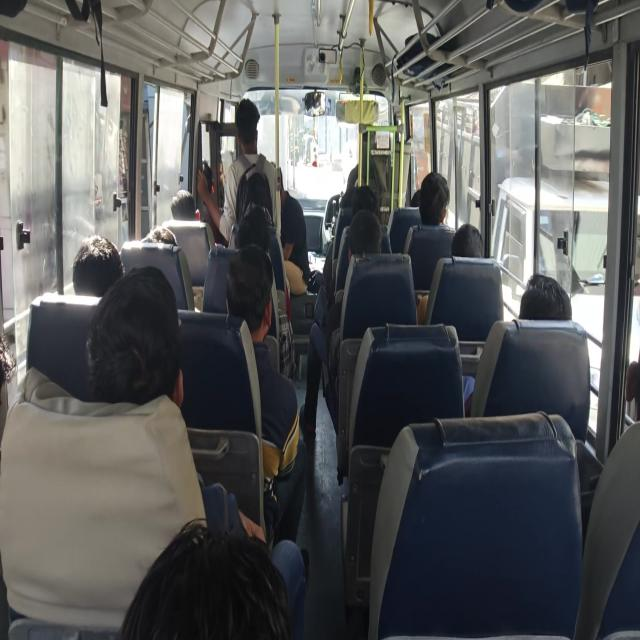person: (128, 503, 345, 640), (108, 291, 178, 403), (219, 250, 285, 320), (0, 330, 32, 464), (136, 207, 188, 270), (348, 212, 389, 288), (439, 208, 497, 257), (414, 170, 456, 234), (228, 102, 264, 169), (72, 246, 117, 298), (515, 272, 556, 322), (232, 220, 273, 266), (170, 177, 200, 231), (609, 357, 640, 408), (275, 160, 295, 219), (195, 166, 221, 208), (348, 182, 379, 214), (238, 209, 277, 234), (404, 189, 433, 222)
